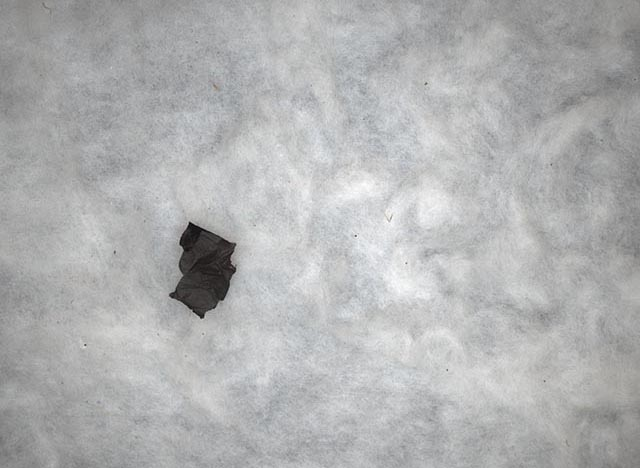plastic film: (168, 220, 238, 318)
